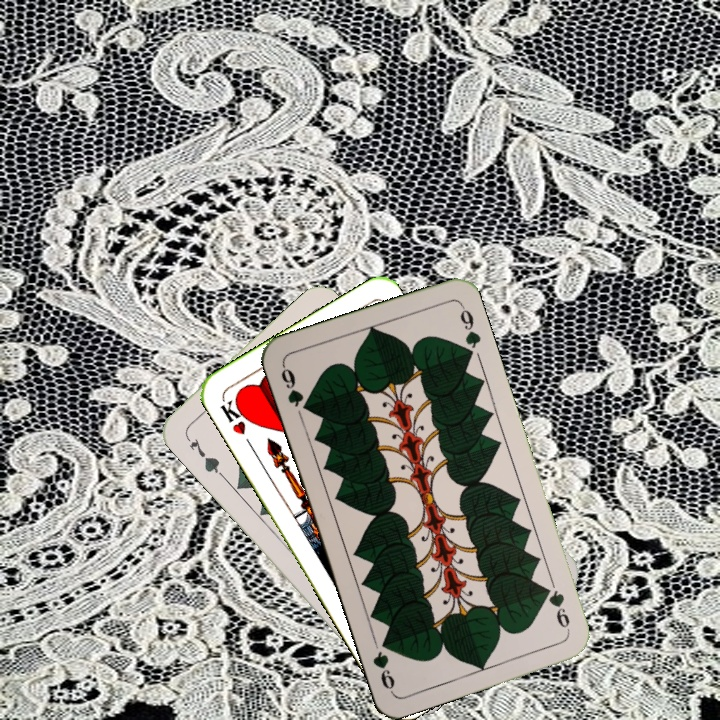G7: (181, 430, 226, 479)
G9: (277, 361, 314, 415), (539, 582, 573, 635)
HK: (216, 393, 255, 449)
